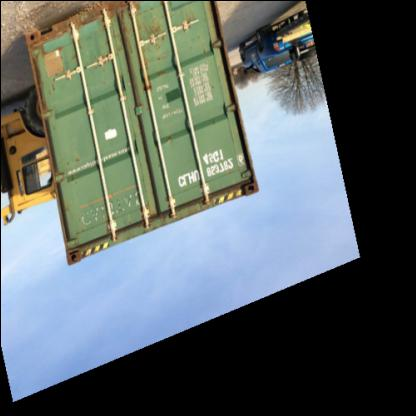Damage: (75, 187, 143, 228), (58, 150, 86, 171), (62, 244, 83, 266), (43, 80, 57, 102), (237, 188, 253, 198)
